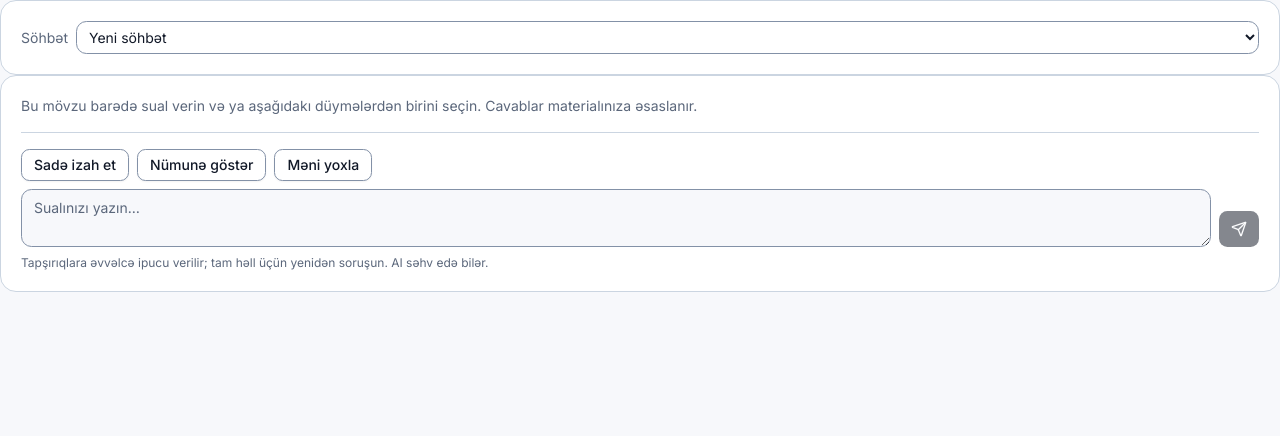
Test: Soruş tab › renders a HINT reply with its sources
Select "Prosessor · 12.10.2026, 10:00" in the dropdown labelled "Söhbət" at (668, 38), box [76,21,1259,54]
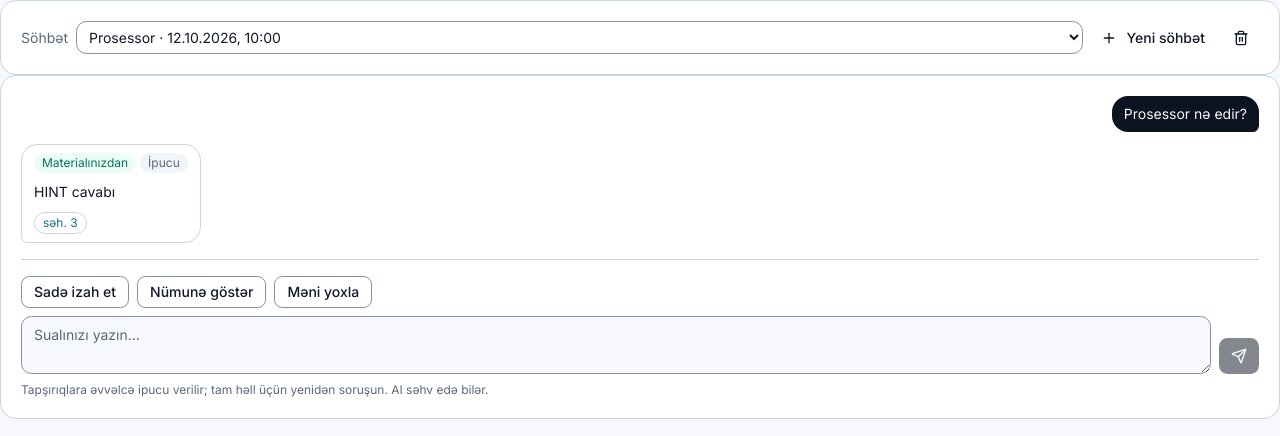
Now the text "Materialınızdan" is shown, box [34,153,136,173]
Now the text "səh. 3" is shown, box [34,212,87,234]
Now the text "İpucu" is shown, box [140,153,188,173]
